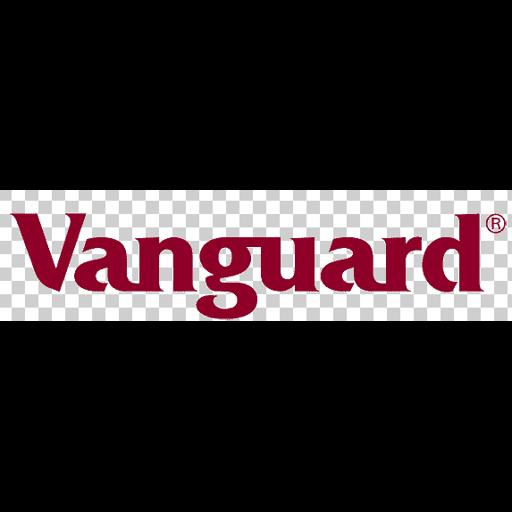The Vanguard Group: (0, 190, 512, 321)
